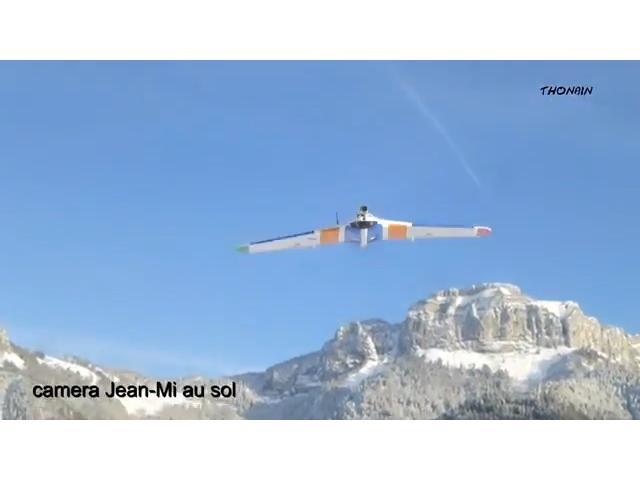Anti-Drone: (238, 208, 490, 254)
